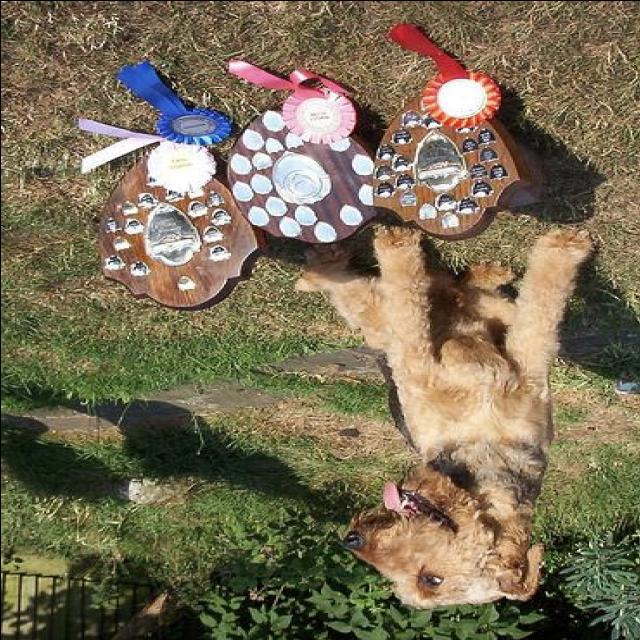airedale: (286, 222, 594, 610)
